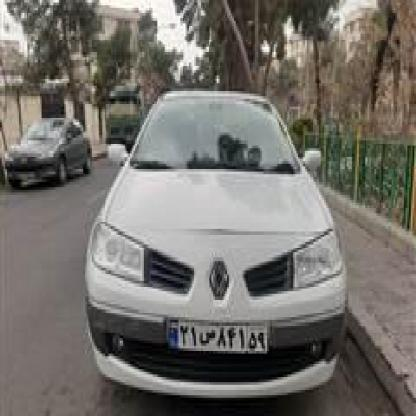Car: (85, 86, 355, 416), (3, 109, 96, 224)
Truck: (101, 94, 142, 161)
